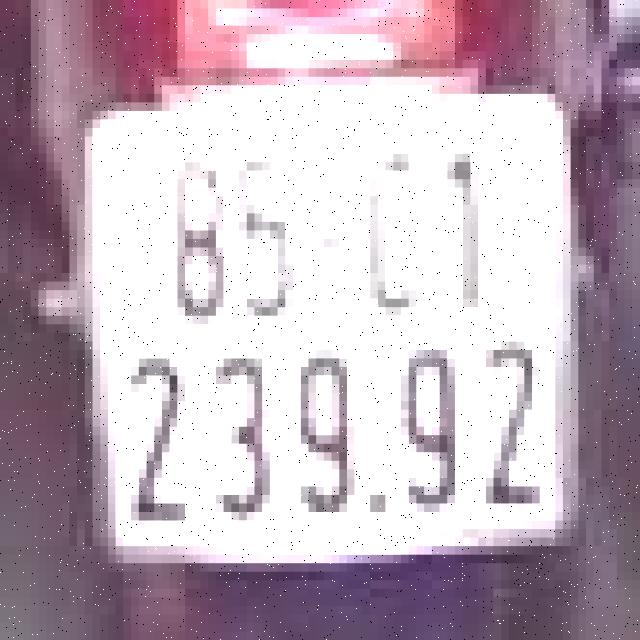0: (432, 132, 501, 320)
2: (463, 320, 555, 516), (120, 341, 204, 538)
3: (216, 341, 277, 529)
5: (220, 124, 304, 328)
8: (162, 141, 231, 328)
9: (289, 328, 374, 534), (386, 324, 470, 512)
C: (358, 132, 444, 320)
